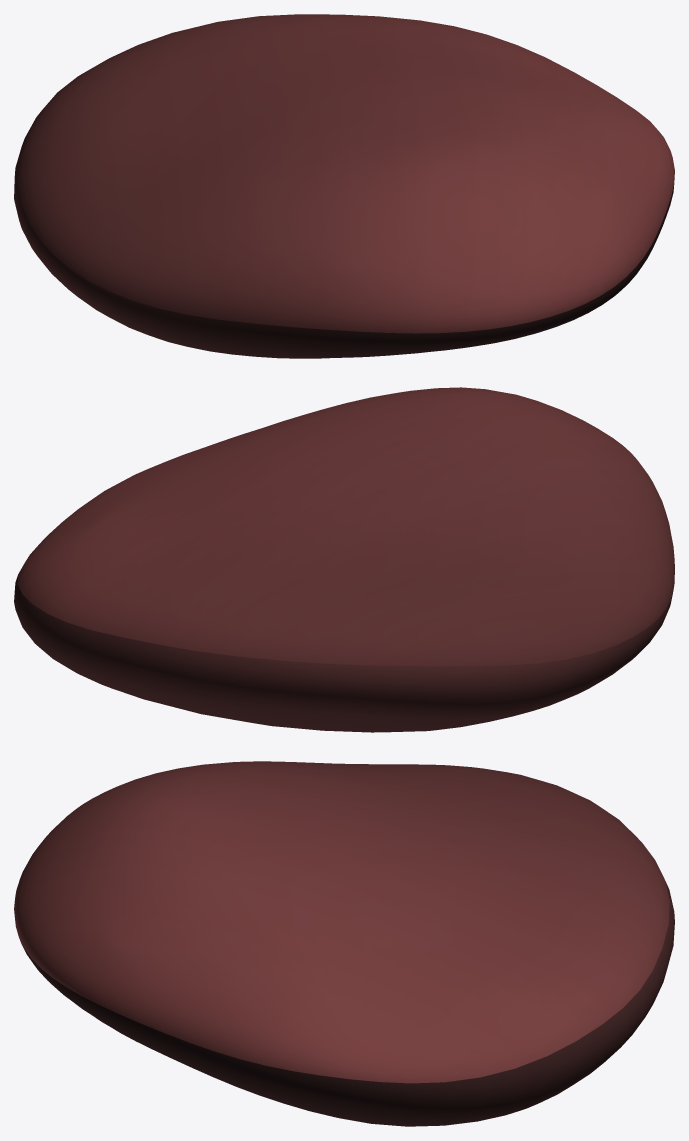
The model's file is common.glb.
3 views of the same model, one above another, from view 1: azimuth 30°, elevation 25°; view 2: azimuth 150°, elevation 25°; view 3: azimuth 270°, elevation 25° (orthographic). The views are drawn at different scales.
Parts seen in each view (by area): view 1: cc_t_common; view 2: cc_t_common; view 3: cc_t_common.
Part boxes in pixels (x1,y1,x2,y2): cc_t_common: (14,14,674,358); cc_t_common: (14,387,674,732); cc_t_common: (14,761,674,1126).
Bounding box in the file's own units: 0.1192 × 0.0478 × 0.1198.
1 material, 1 textured.
